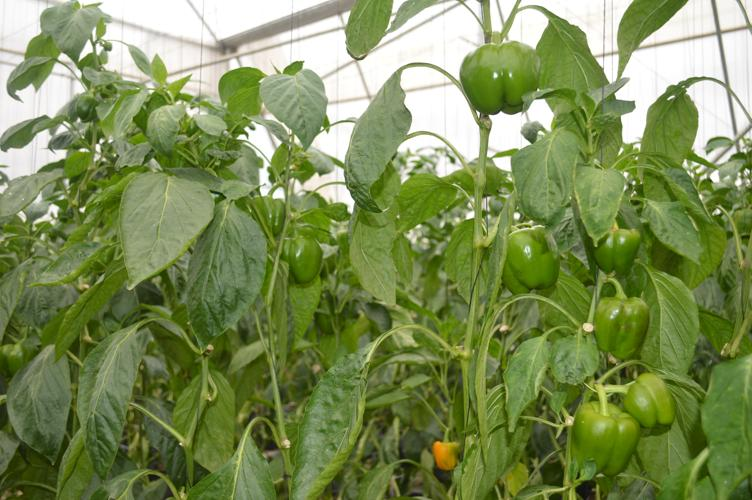BellPepper: (457, 39, 543, 120), (487, 217, 569, 300), (555, 399, 641, 476), (582, 289, 655, 358), (623, 374, 678, 443), (586, 214, 646, 273), (274, 230, 328, 283)
